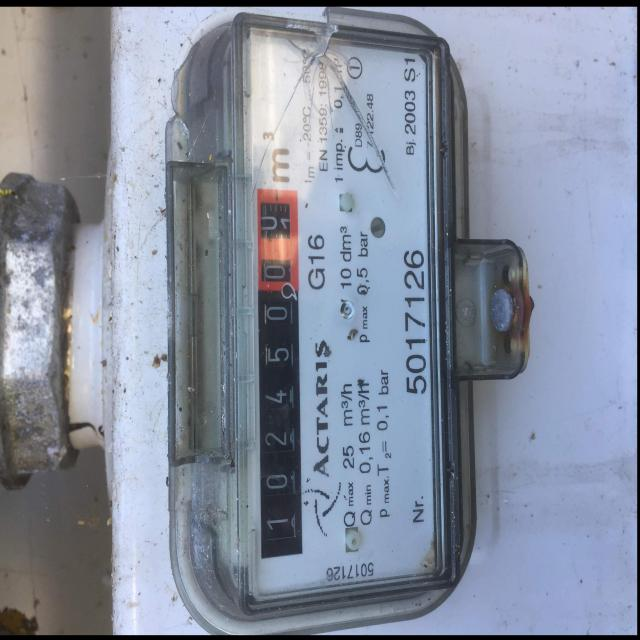gaz_meter: (232, 22, 456, 598)
indication: (257, 188, 303, 559)
